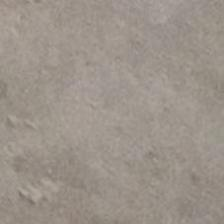Non_Crack: (16, 43, 188, 201)
